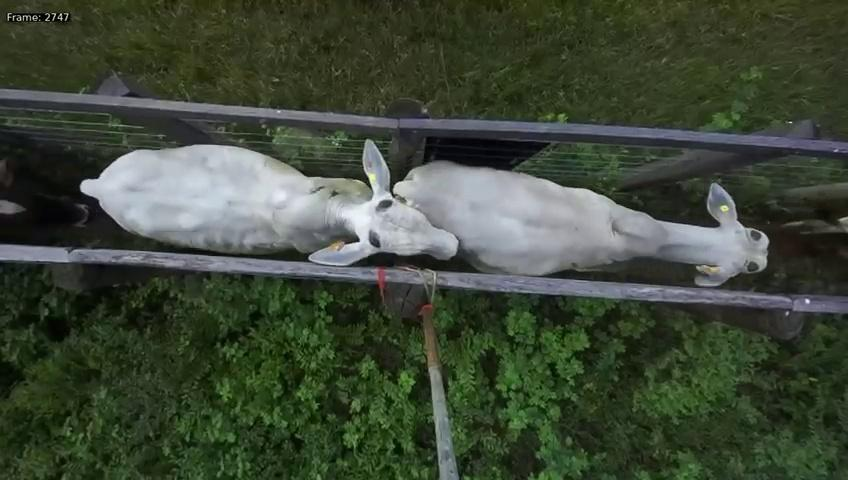cattle: (392, 151, 776, 291), (73, 138, 466, 268)
